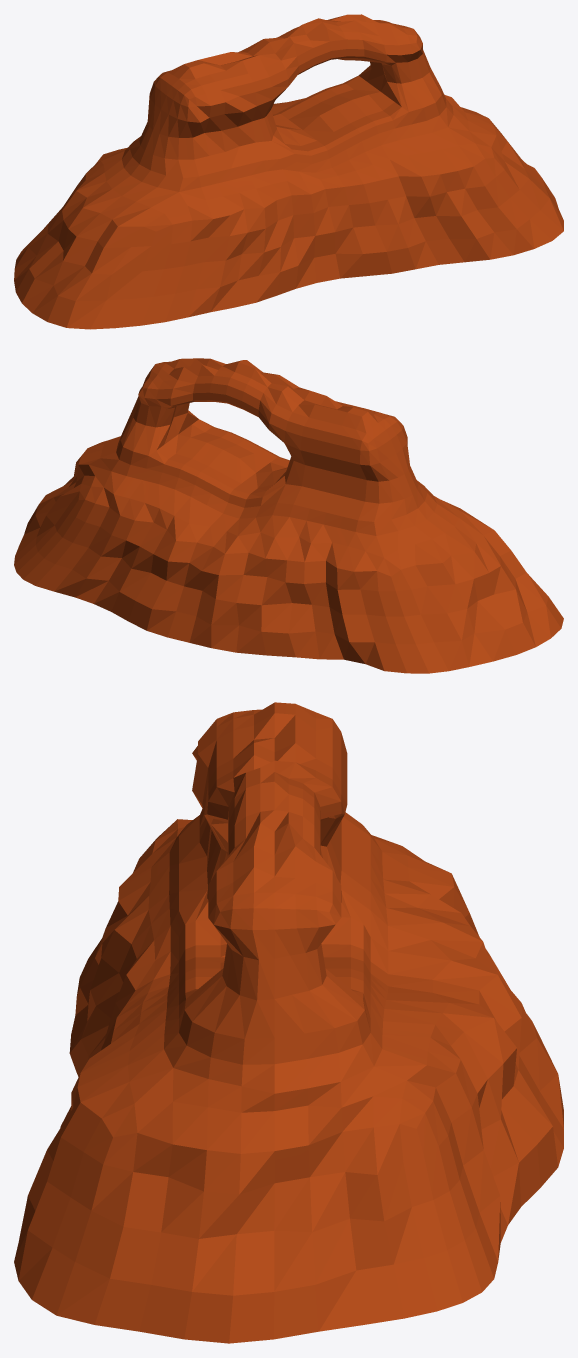
File: Plateau_desert_004.glb
3 views of the same model, one above another, from view 1: azimuth 30°, elevation 25°; view 2: azimuth 150°, elevation 25°; view 3: azimuth 270°, elevation 25° (orthographic). The views are drawn at different scales.
Visible parts, largest first — view 1: Plateau_desert_004; view 2: Plateau_desert_004; view 3: Plateau_desert_004.
Boxes of the visible parts, bbox=[...] form: Plateau_desert_004: bbox=[14, 14, 563, 329]; Plateau_desert_004: bbox=[14, 358, 563, 673]; Plateau_desert_004: bbox=[14, 702, 563, 1343].
Size of the model in its own units: 53.88 by 21.25 by 28.2.
